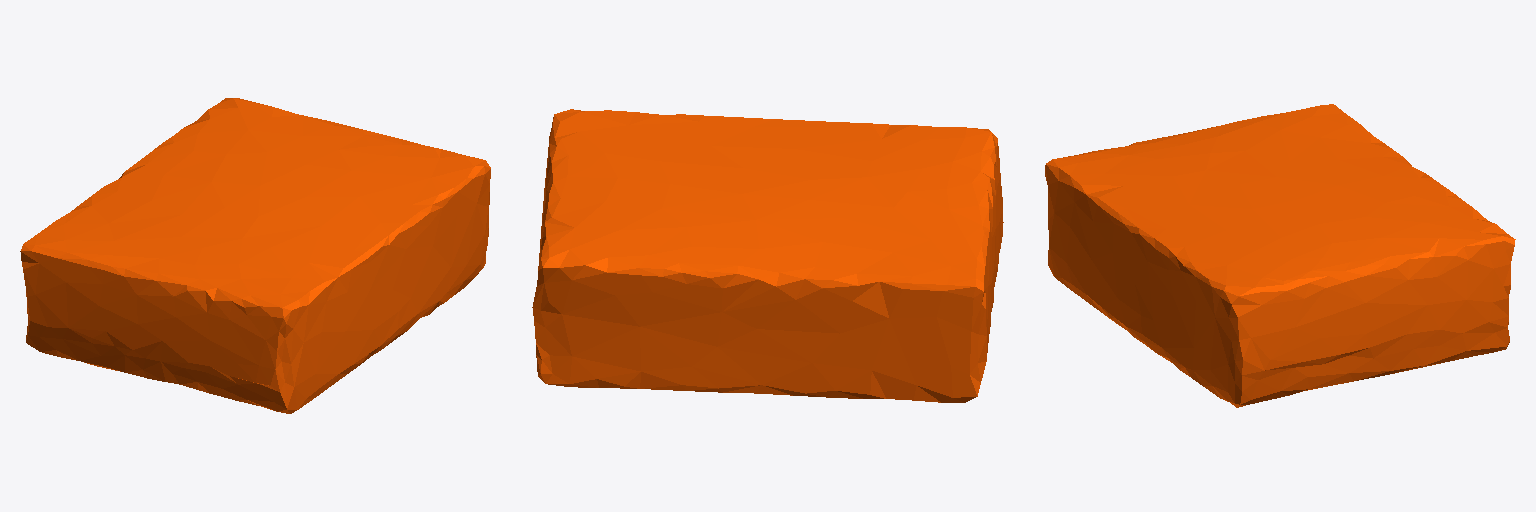
The robot description file, URDF, robot "008_pudding_box":
<?xml version="1.0" ?>
<robot name="008_pudding_box">
   <material name="obj_color">
      <color rgba="1.0 0.423529411765 0.0392156862745 1.0"/>
   </material>
   <link name="top">
      <inertial>
         <origin rpy="0.0001817284392512614 0.0002698628707285871 0.0004000091731020447" xyz="-0.0002840309598351286 0.003489414472643361 -0.003353830045345215"/>
         <mass value="0.24875"/>
         <inertia ixx="0.0002010609517762084" ixy="-3.636704993549919e-05" ixz="-4.818911335493098e-06" iyy="0.0002506493511504567" iyz="-1.449999229939836e-06" izz="0.0003998901801552283"/>
      </inertial>
      <visual>
         <origin rpy="0 0 0" xyz="0 0 0"/>
         <geometry>
            <mesh filename="top_watertight_tiny.stl" scale="1 1 1"/>
         </geometry>
         <material name="obj_color"/>
      </visual>
      <collision>
         <origin rpy="0 0 0" xyz="0 0 0"/>
         <geometry>
            <mesh filename="top_watertight_tiny.obj" scale="1 1 1"/>
         </geometry>
      </collision>
   </link>
   <link name="bottom">
      <inertial>
         <origin rpy="1.633333333199431e-08 1.633333333199431e-08 1.633333333362855e-08" xyz="0.3464080000000008 0.3464080000000008 0.3464080000000008"/>
         <mass value="0.0009800000000000017"/>
         <inertia ixx="1.633333333253906e-08" ixy="5.447480642029219e-19" ixz="5.447480642029219e-19" iyy="1.633333333253906e-08" iyz="5.447480642029219e-19" izz="1.633333333253906e-08"/>
      </inertial>
      <visual>
         <origin rpy="0 0 0" xyz="0 0 0"/>
         <geometry>
            <mesh filename="bottom_watertight_tiny.stl" scale="1 1 1"/>
         </geometry>
         <material name="obj_color"/>
      </visual>
   </link>
   <link name="world"/>
   <joint name="world_to_base" type="fixed">
      <origin xyz="0 0 0"/>
      <axis xyz="0 0 0"/>
      <parent link="world"/>
      <child link="bottom"/>
   </joint>
   <joint name="rotation" type="revolute">
      <origin xyz="0 0 0"/>
      <axis xyz="0 0 -1"/>
      <parent link="bottom"/>
      <child link="top"/>
      <dynamics damping="1.0" friction="1.0"/>
      <limit effort="0.1" velocity="0.1" lower="0" upper="0.001"/>
   </joint>
</robot>

--- Render facts (derived) ---
3 views of the same robot in one strip: view 1: azimuth 30°, elevation 25°; view 2: azimuth 150°, elevation 25°; view 3: azimuth 270°, elevation 25° (orthographic).
Robot: 008_pudding_box — 3 links, 2 joints (1 revolute, 1 fixed); root link world; default pose: all joints at 0.
Links seen in each view (by area): view 1: top; view 2: top; view 3: top.
Link boxes in pixels (box(x1,y1,x2,y2)): top: box(20, 98, 490, 413); top: box(532, 109, 1003, 402); top: box(1045, 104, 1515, 407).
Bounding box of the posed robot: 0.1375 × 0.1277 × 0.0384 m (x, y, z).
1 mesh visuals loaded from 2 distinct referenced files (1 binary STL); not drawn: 1 (reference not matched to a file when rendering).